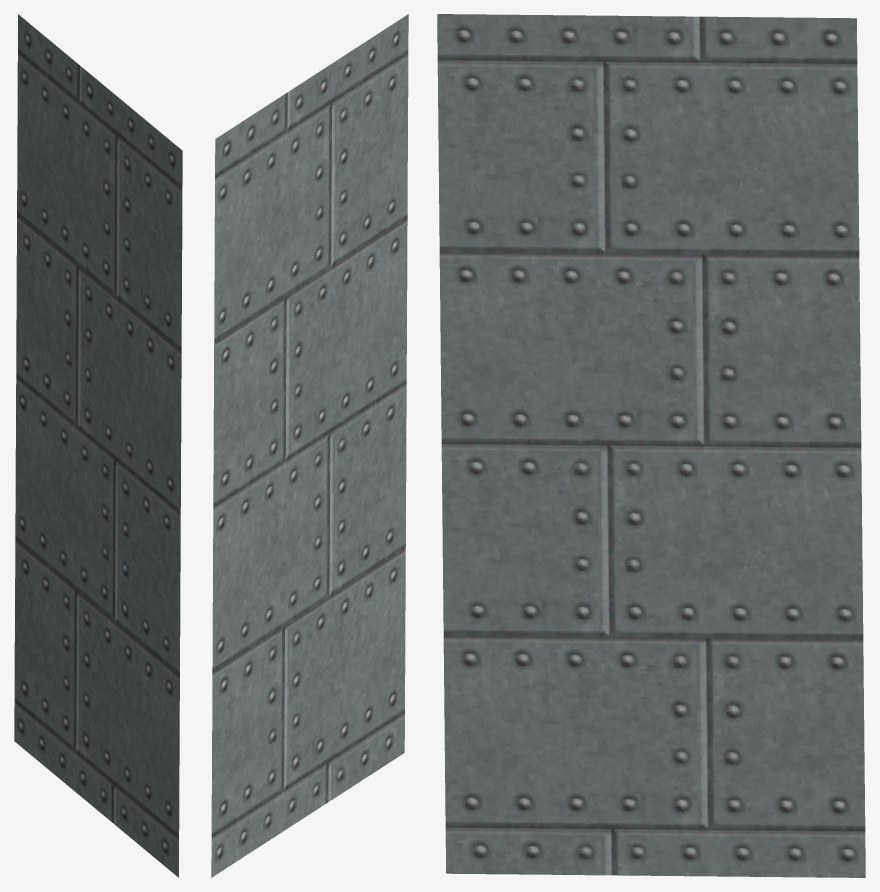
Rendered from WallBlock1.glb.
The picture shows the model from 3 angles, left to right: view 1: azimuth 30°, elevation 25°; view 2: azimuth 150°, elevation 25°; view 3: azimuth 270°, elevation 25°; orthographic projection. The views are drawn at different scales.
Visible parts, largest first — view 1: BattleShipKillerBossRoom.001; view 2: BattleShipKillerBossRoom.001; view 3: BattleShipKillerBossRoom.001.
Part boxes in pixels (<box>): BattleShipKillerBossRoom.001: <box>14,14,182,877</box>; BattleShipKillerBossRoom.001: <box>211,14,408,877</box>; BattleShipKillerBossRoom.001: <box>437,14,865,877</box>.
Bounding box in the file's own units: 0.0993 × 5.11 × 2.3.
1 material, 1 textured.
